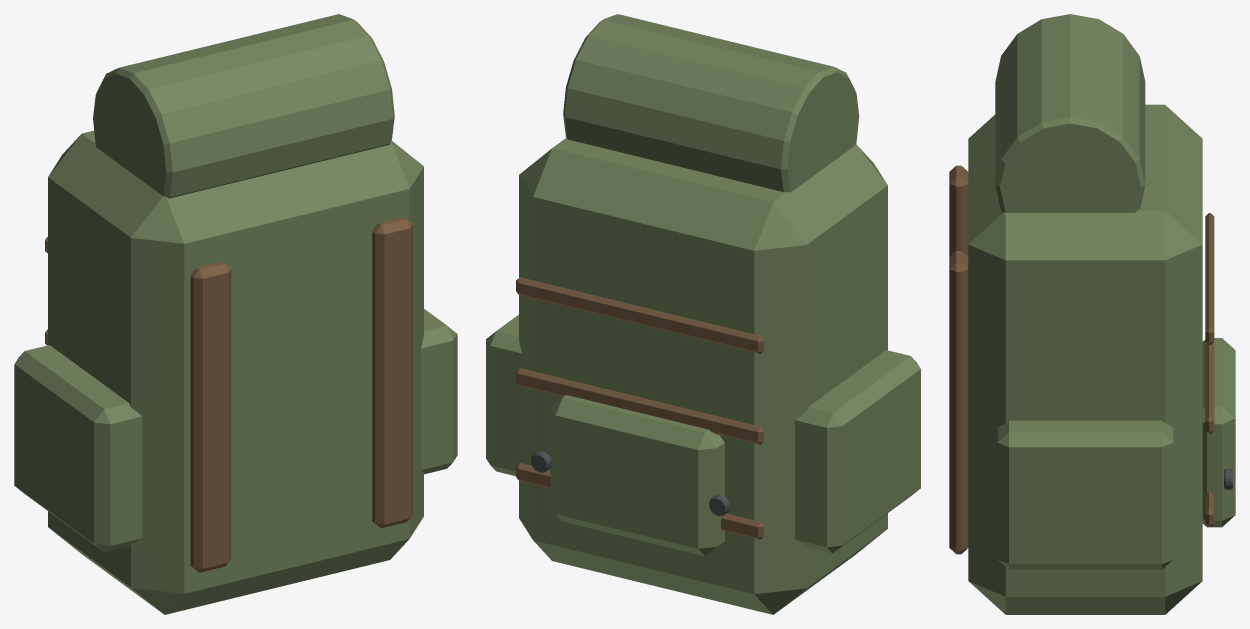
The model's file is item_military_rucksack.glb.
The picture shows the model from 3 angles, left to right: view 1: azimuth 30°, elevation 25°; view 2: azimuth 150°, elevation 25°; view 3: azimuth 270°, elevation 25°; orthographic projection. The views are drawn at different scales.
Parts seen in each view (by area): view 1: item_military_rucksack; view 2: item_military_rucksack; view 3: item_military_rucksack.
Part boxes in pixels (x1=…): item_military_rucksack: x1=14, y1=14, x2=457, y2=614; item_military_rucksack: x1=486, y1=14, x2=920, y2=614; item_military_rucksack: x1=949, y1=14, x2=1235, y2=614.
Bounding box in the file's own units: 0.5332 × 0.7242 × 0.3783.
